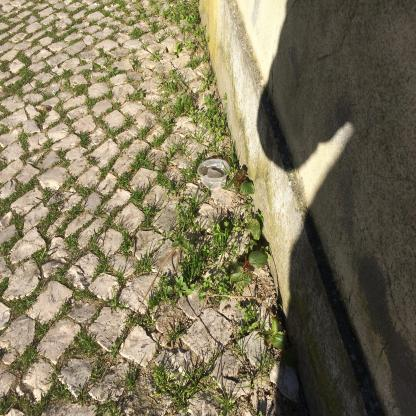plastik: (198, 158, 233, 192)
